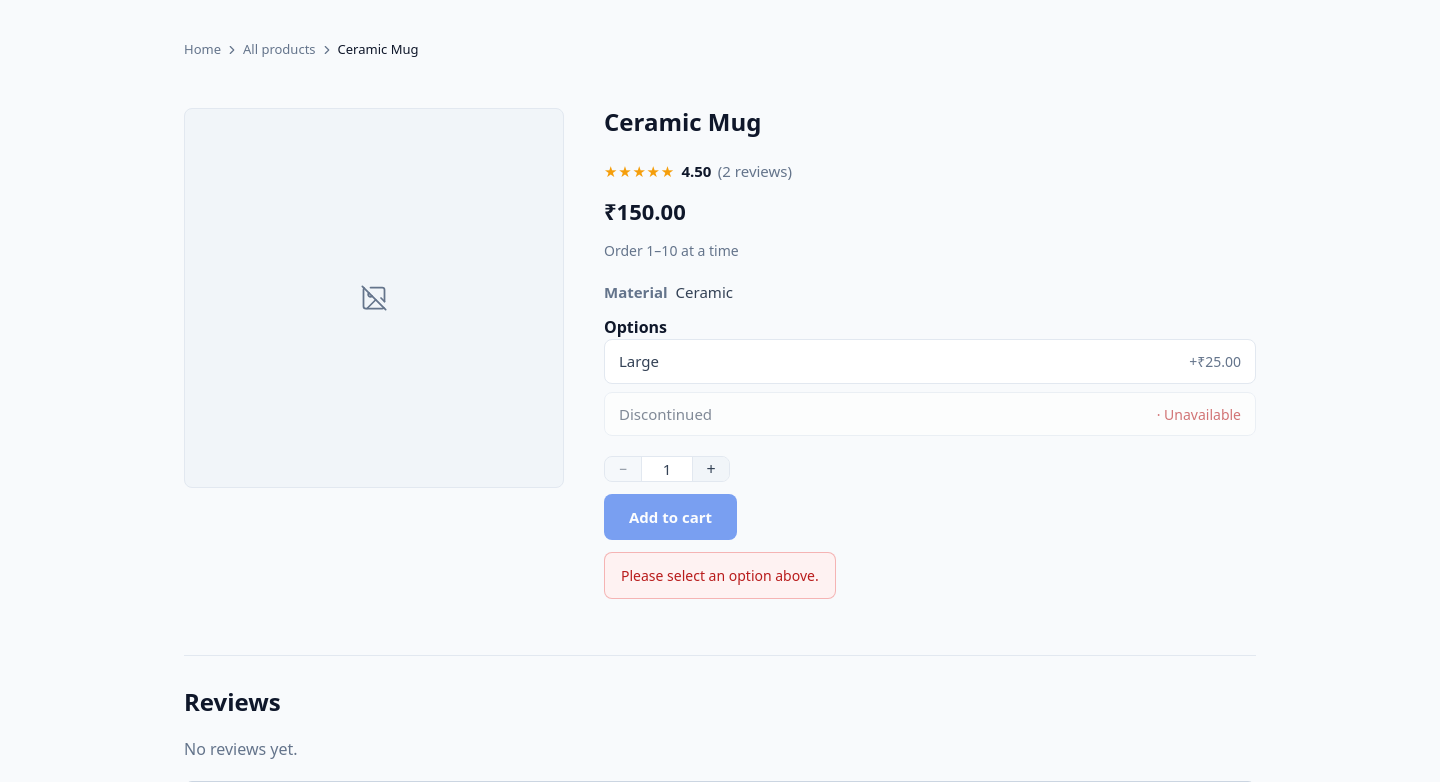
ProductDetailPage › updates the displayed price when a variant with a price delta is selected
The image size is (1440, 782).
Expected: the heading "Ceramic Mug" is shown, [604,104,762,138]
Expected: the text "₹150.00" is shown, [604,196,686,226]
Step 1. Click the radio button labelled "Large +₹25.00" → (639,361), box [604,339,1256,384]
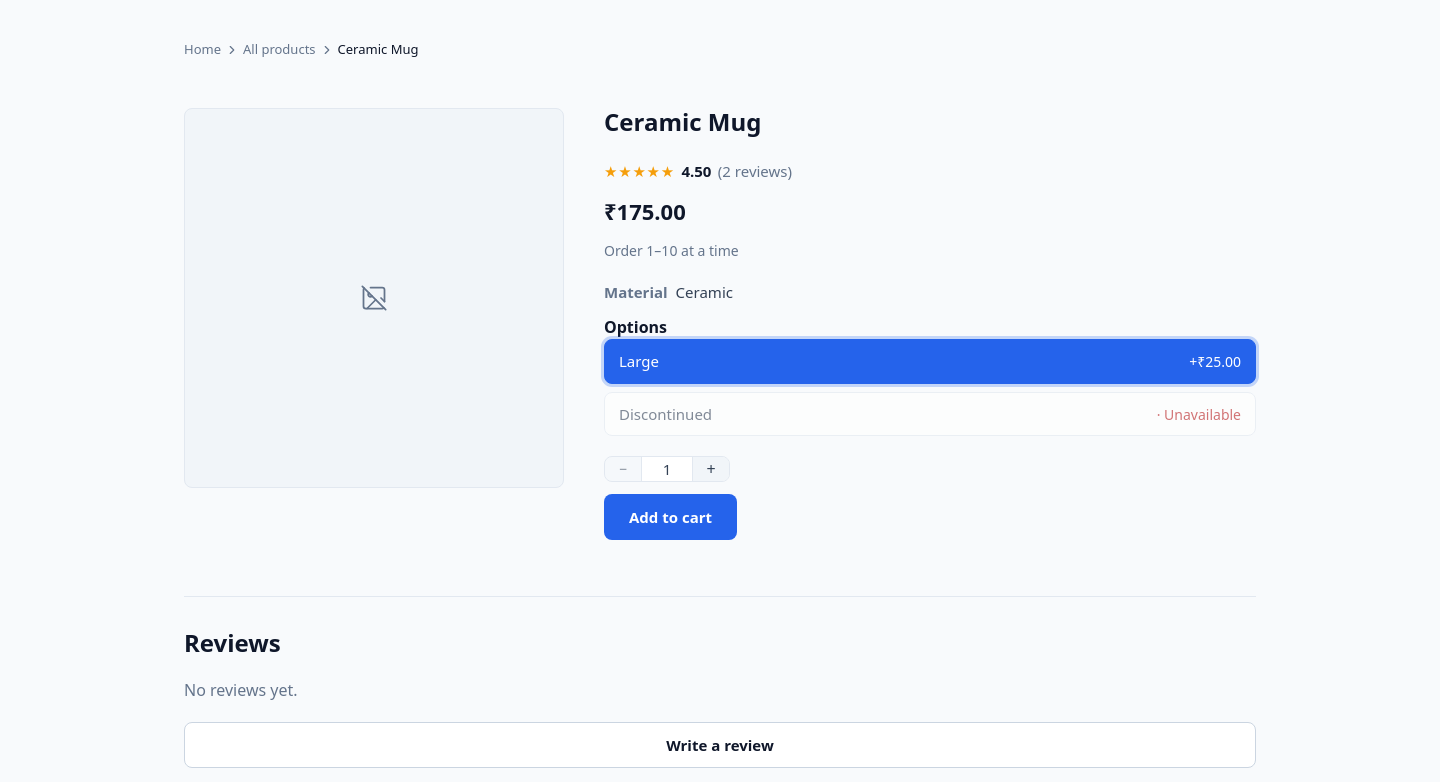
Expected: the text "₹175.00" is shown, [604,196,686,226]
